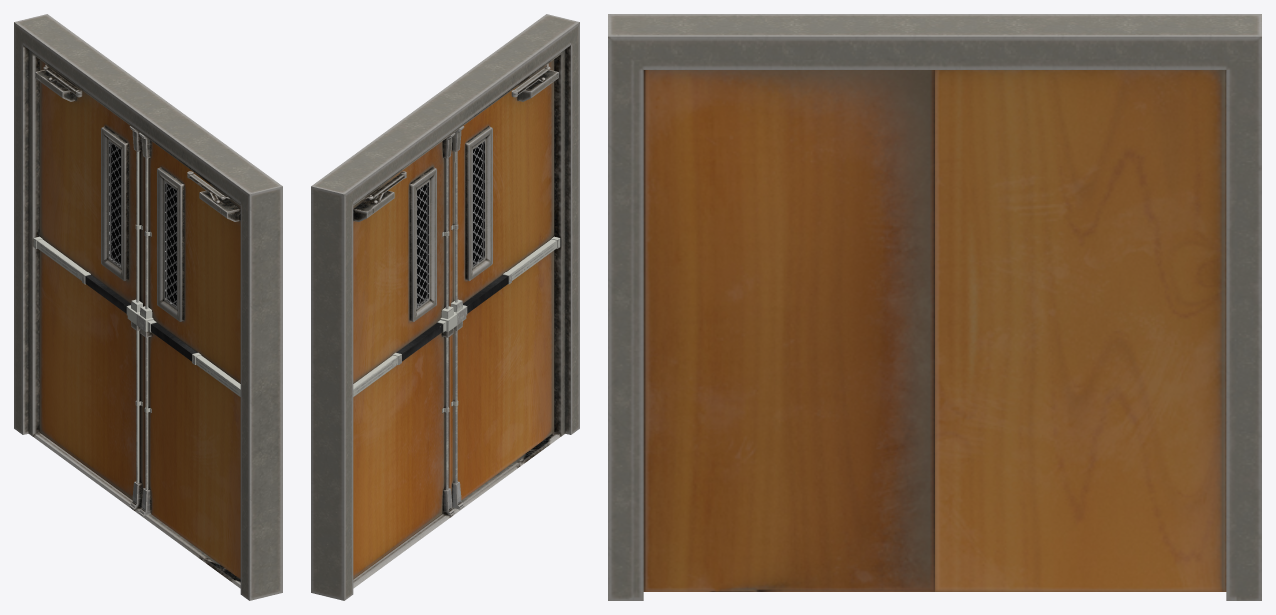
The model's file is Door.fbx.
The picture shows the model from 3 angles, left to right: view 1: azimuth 30°, elevation 25°; view 2: azimuth 150°, elevation 25°; view 3: azimuth 270°, elevation 25°; orthographic projection. The views are drawn at different scales.
Parts seen in each view (by area): view 1: Door, Left, Right; view 2: Door, Right, Left; view 3: Right, Left, Door.
Boxes of the visible parts, x1,y1,x2,y2 form: Door: [14, 14, 282, 600]; Left: [33, 59, 144, 509]; Right: [136, 132, 240, 579]; Door: [311, 14, 579, 600]; Right: [449, 59, 560, 509]; Left: [353, 132, 457, 579]; Right: [643, 70, 934, 591]; Left: [935, 70, 1226, 591]; Door: [608, 14, 1261, 600].
Bounding box in the file's own units: 18.07 × 206 × 216.
